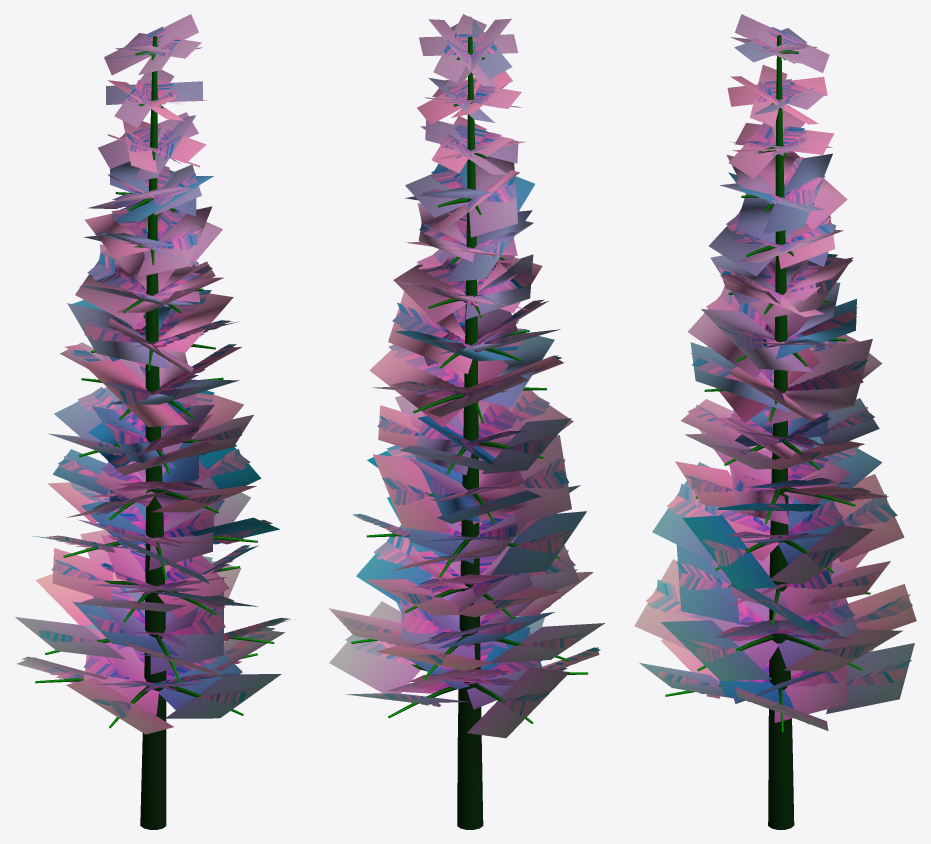
The model's file is araucaria_1.glb.
3 renders of one model, left to right at view 1: azimuth 30°, elevation 25°; view 2: azimuth 150°, elevation 25°; view 3: azimuth 270°, elevation 25°, orthographic.
Visible parts, largest first — view 1: mid, near; view 2: mid, near; view 3: mid, near.
Part boxes in pixels (left/top/right/bottom): mid: left=15, top=14, right=295, bottom=817; near: left=21, top=26, right=290, bottom=829; mid: left=328, top=14, right=604, bottom=820; near: left=338, top=31, right=600, bottom=829; mid: left=634, top=14, right=916, bottom=757; near: left=646, top=27, right=912, bottom=829.
Size of the model in its own units: 5.42 by 17.68 by 5.66.
